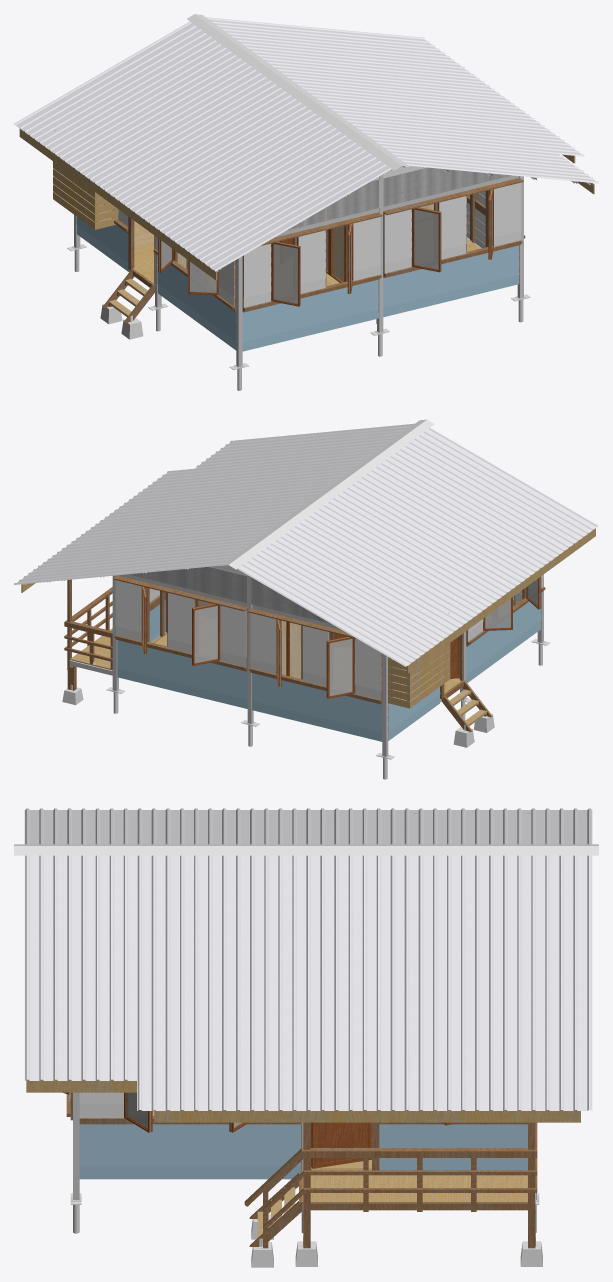
File: 4 Module - Blue (centered).glb
3 renders of one model, top to bottom at view 1: azimuth 30°, elevation 25°; view 2: azimuth 150°, elevation 25°; view 3: azimuth 270°, elevation 25°, orthographic. The views are drawn at different scales.
Parts seen in each view (by area): view 1: Geom3D_Component#83, Geom3D_Component#83.003, Geom3D_Component#83.008, Geom3D_Component#83.005, Geom3D_Component#83.009, Geom3D_Component#83.007, Geom3D_Component#83.002, Geom3D_Component#83.004, Geom3D_Component#83.006, Geom3D_Component#83.001, Geom3D_Component#54.004, Geom3D_Component#54.001 (+40 smaller); view 2: Geom3D_Component#83.003, Geom3D_Component#83.008, Geom3D_Component#83.001, Geom3D_Component#83, Geom3D_Component#83.006, Geom3D_Component#83.007, Geom3D_Component#83.009, Geom3D_Component#83.005, Geom3D_Component#83.004, Geom3D_Component#83.002, Geom3D_Component#54.006, Geom3D_Component#54.002 (+38 smaller); view 3: Geom3D_Component#54.004, Geom3D_Component#54.006, Geom3D_Component#54.002, Geom3D_Component#54.003, Geom3D_Component#54.005, Geom3D_Component#54.001, Geom3D_Component#54.007, Geom3D_Component#54, Geom3D_Component#77.001, Geom3D_Component#77, Geom3D_Purlin Cover 1#7, Geom3D.516 (+33 smaller).
Part boxes in pixels (<box>): Geom3D_Component#83: <box>14,21,211,139</box>; Geom3D_Component#83.003: <box>74,65,271,183</box>; Geom3D_Component#83.008: <box>174,138,371,256</box>; Geom3D_Component#83.005: <box>134,109,331,227</box>; Geom3D_Component#83.009: <box>196,154,391,271</box>; Geom3D_Component#83.007: <box>96,82,291,198</box>; Geom3D_Component#83.002: <box>54,51,249,167</box>; Geom3D_Component#83.004: <box>116,96,309,212</box>; Geom3D_Component#83.006: <box>156,124,349,242</box>; Geom3D_Component#83.001: <box>36,38,229,153</box>; Geom3D_Component#54.004: <box>326,105,564,141</box>; Geom3D_Component#54.001: <box>287,76,524,112</box>; Geom3D_Component#83.003: <box>295,511,483,624</box>; Geom3D_Component#83.008: <box>390,442,578,554</box>; Geom3D_Component#83.001: <box>256,539,444,652</box>; Geom3D_Component#83: <box>237,553,426,666</box>; Geom3D_Component#83.006: <box>371,457,559,568</box>; Geom3D_Component#83.007: <box>316,497,502,610</box>; Geom3D_Component#83.009: <box>411,427,598,539</box>; Geom3D_Component#83.005: <box>352,471,540,582</box>; Geom3D_Component#83.004: <box>335,483,520,595</box>; Geom3D_Component#83.002: <box>277,527,463,637</box>; Geom3D_Component#54.006: <box>33,535,261,570</box>; Geom3D_Component#54.002: <box>71,507,299,542</box>; Geom3D_Component#54.004: <box>193,855,254,1110</box>; Geom3D_Component#54.006: <box>474,855,535,1110</box>; Geom3D_Component#54.002: <box>362,855,423,1110</box>; Geom3D_Component#54.003: <box>137,855,198,1110</box>; Geom3D_Component#54.005: <box>418,855,478,1110</box>; Geom3D_Component#54.001: <box>305,855,365,1110</box>; Geom3D_Component#54.007: <box>531,855,592,1110</box>; Geom3D_Component#54: <box>255,855,310,1110</box>; Geom3D_Component#77.001: <box>24,855,86,1080</box>; Geom3D_Component#77: <box>80,855,138,1080</box>; Geom3D_Purlin Cover 1#7: <box>305,1110,580,1122</box>; Geom3D.516: <box>79,1124,300,1138</box>.
Size of the model in its own units: 9.03 by 4.33 by 7.93.
19 materials, 10 textured.
